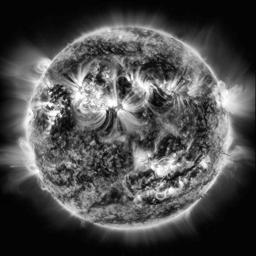solar flares: (103, 97, 132, 121), (40, 98, 58, 129), (159, 81, 187, 100), (134, 147, 153, 173), (153, 161, 181, 178), (70, 83, 94, 102), (131, 79, 155, 97), (211, 86, 225, 116)
sunspots: (91, 149, 124, 174), (142, 58, 176, 82), (155, 131, 179, 159), (86, 45, 124, 60), (191, 112, 209, 141), (55, 119, 81, 137), (151, 98, 169, 117), (66, 61, 86, 77), (101, 188, 122, 202), (139, 130, 156, 147), (117, 75, 129, 94), (53, 85, 68, 100), (147, 194, 161, 210)
